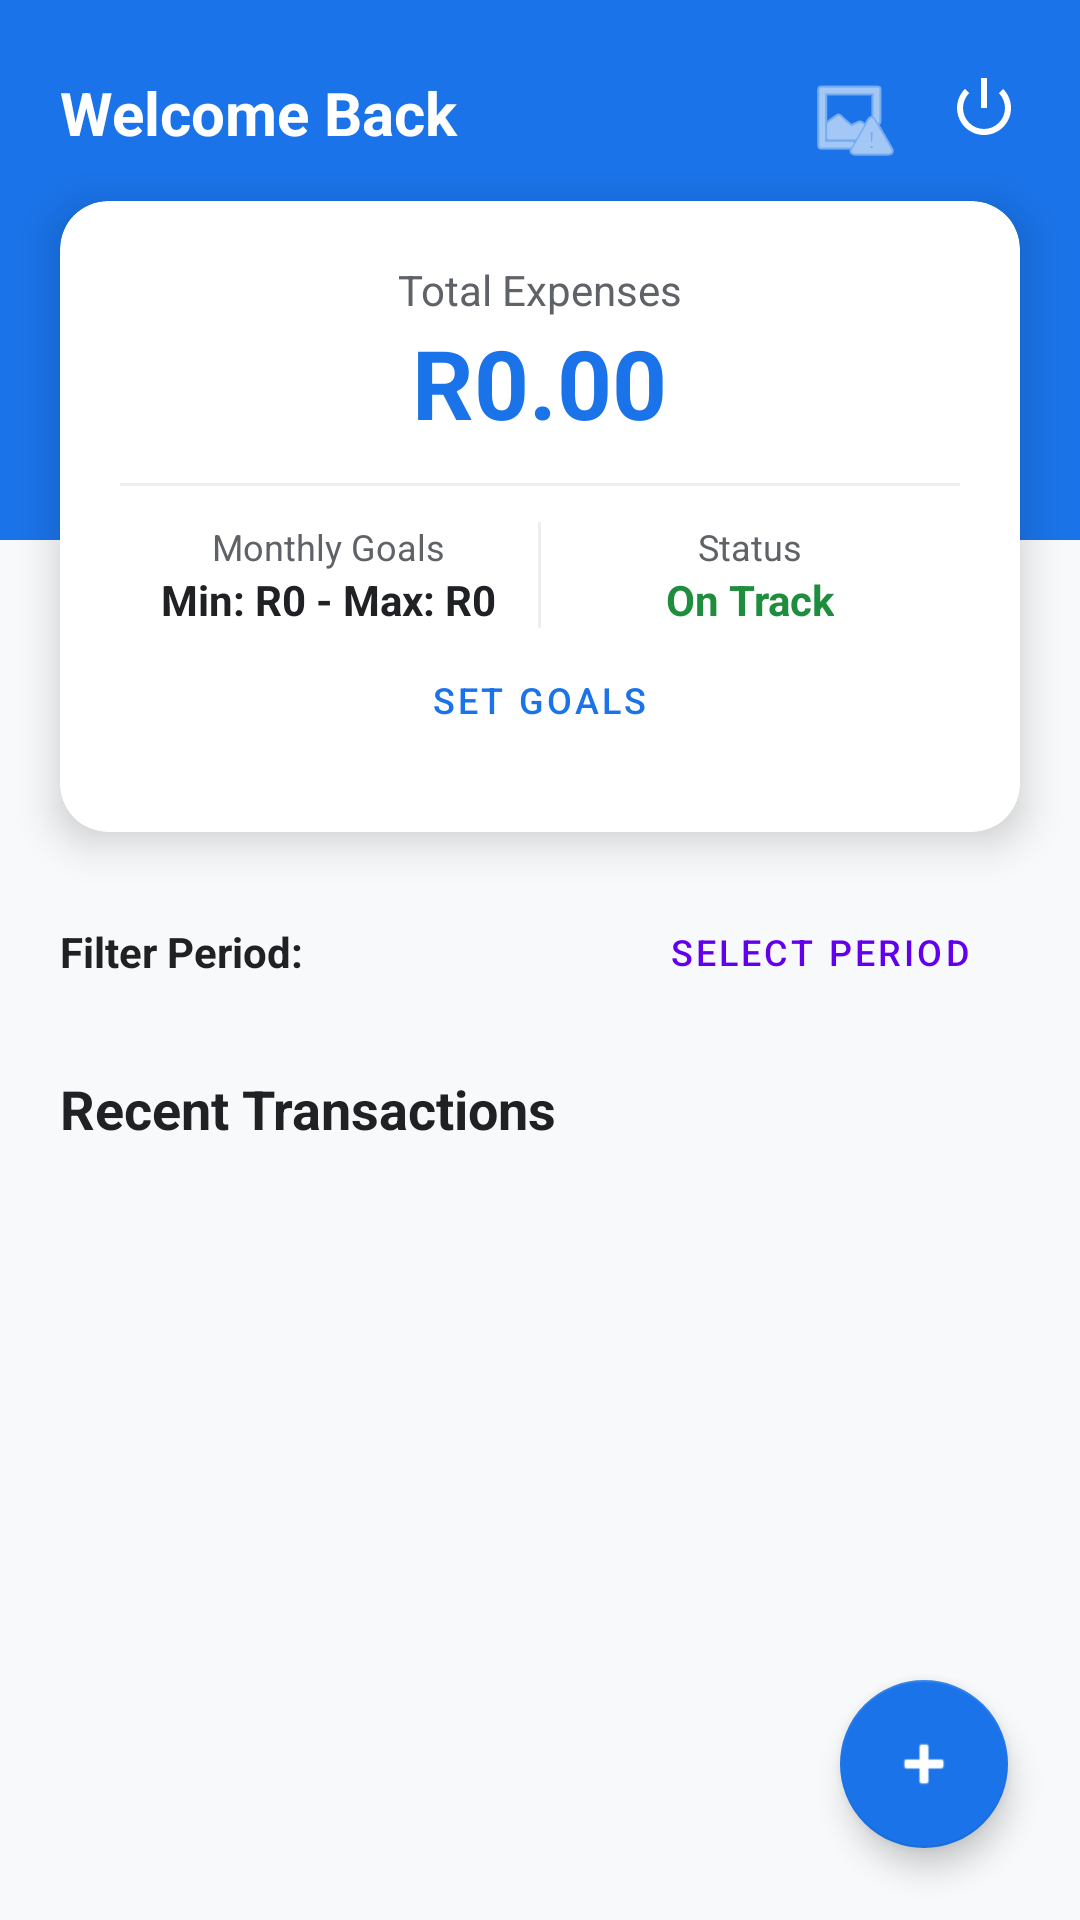

Icons on this 1080*1920 Android screen, each with the point to tap as point (x, y):
Add Expense: point (924, 1764)
